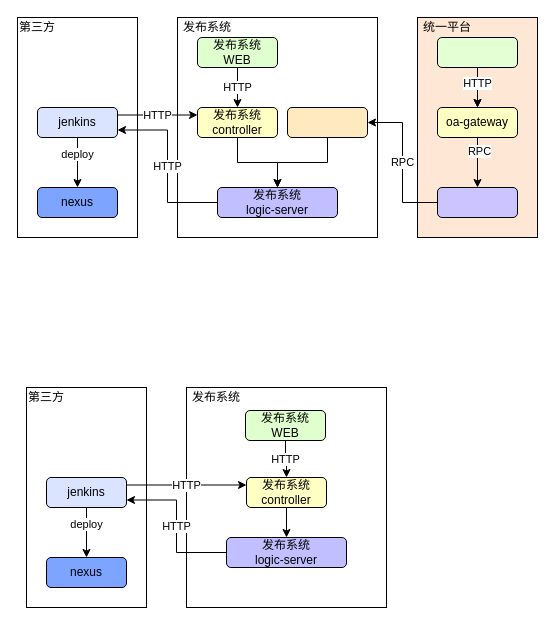
This 555x625 diagram has some shape labels left out. Here are the shapes that lost their labels. From the top down, the box of each, then its label:
(436, 36, 518, 68): WEB
(286, 106, 368, 138): 发布系统 dubbo-server
(436, 186, 518, 218): 乐效 server
